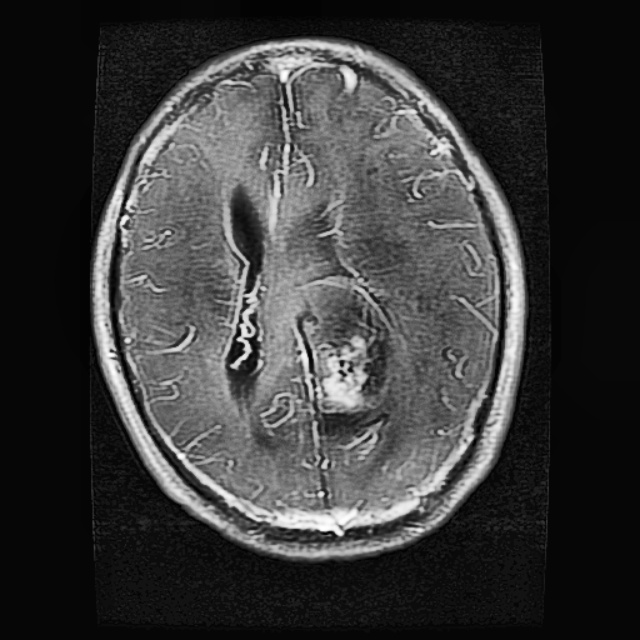Glioma: (295, 319, 379, 422)
